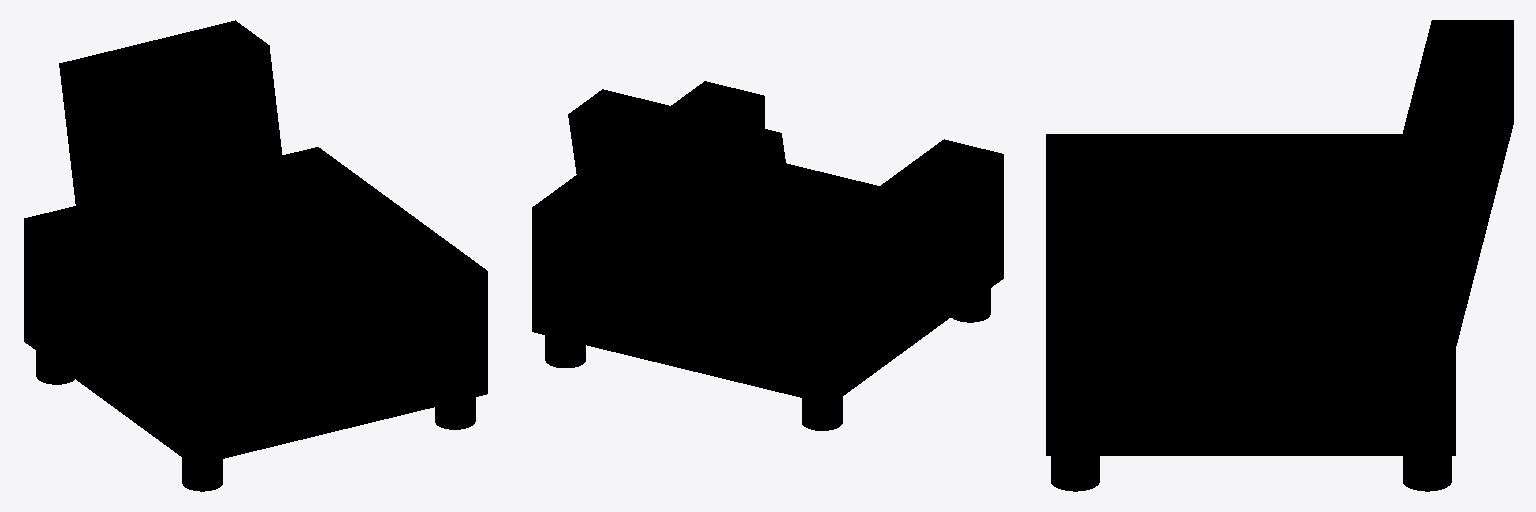
URDF robot description (armchair):
<?xml version="1.0" ?>
<robot name="armchair">
  <link name="baseLink">
    <contact>
      <lateral_friction value="1.0"/>
      <rolling_friction value="0.0"/>
      <contact_cfm value="0.0"/>
      <contact_erp value="1.0"/>
    </contact>
    <inertial>
      <origin rpy="0 0 0" xyz="0.0 0.0949 0.3238"/>
       <mass value="25"/>
       <inertia ixx="3.48340001" ixy="0" ixz="0" iyy="3.16851768" iyz="-0.69085115" izz="4.90483273"/>
    </inertial>
    <visual>
      <origin rpy="0 0 0" xyz="0.0 0.0949 0.3238"/>
      <geometry>
        <mesh filename="../obj/armchair.obj" scale="0.02 0.02 0.02"/>
      </geometry>
       <material name="black">
        <color rgba="0 0 0 1"/>
      </material>
    </visual>
    <collision concave="yes">
      <origin rpy="0 0 0" xyz="0.0 0.0949 0.3238"/>
      <geometry>
	 	<mesh filename="../obj/armchair.obj" scale="0.02 0.02 0.02"/>
      </geometry>
    </collision>
  </link>
</robot>

--- What the picture shows (computed from the rendered views, not written in the file) ---
Views: 3 orthographic renders of the robot side by side, from view 1: azimuth 30°, elevation 25°; view 2: azimuth 150°, elevation 25°; view 3: azimuth 270°, elevation 25°.
Robot: armchair — 1 links, 0 joints (none); root link baseLink; default pose: all joints at 0.
Visible links, largest first — view 1: baseLink; view 2: baseLink; view 3: baseLink.
Link boxes in pixels (x1,y1,x2,y2): baseLink: (24,20,487,491); baseLink: (532,81,1003,430); baseLink: (1046,20,1513,491).
Size in the robot's own frame: 1 by 1.14 by 0.9 metres.
Meshes: 1 distinct files referenced, 1 mesh visuals loaded (1 OBJ).
